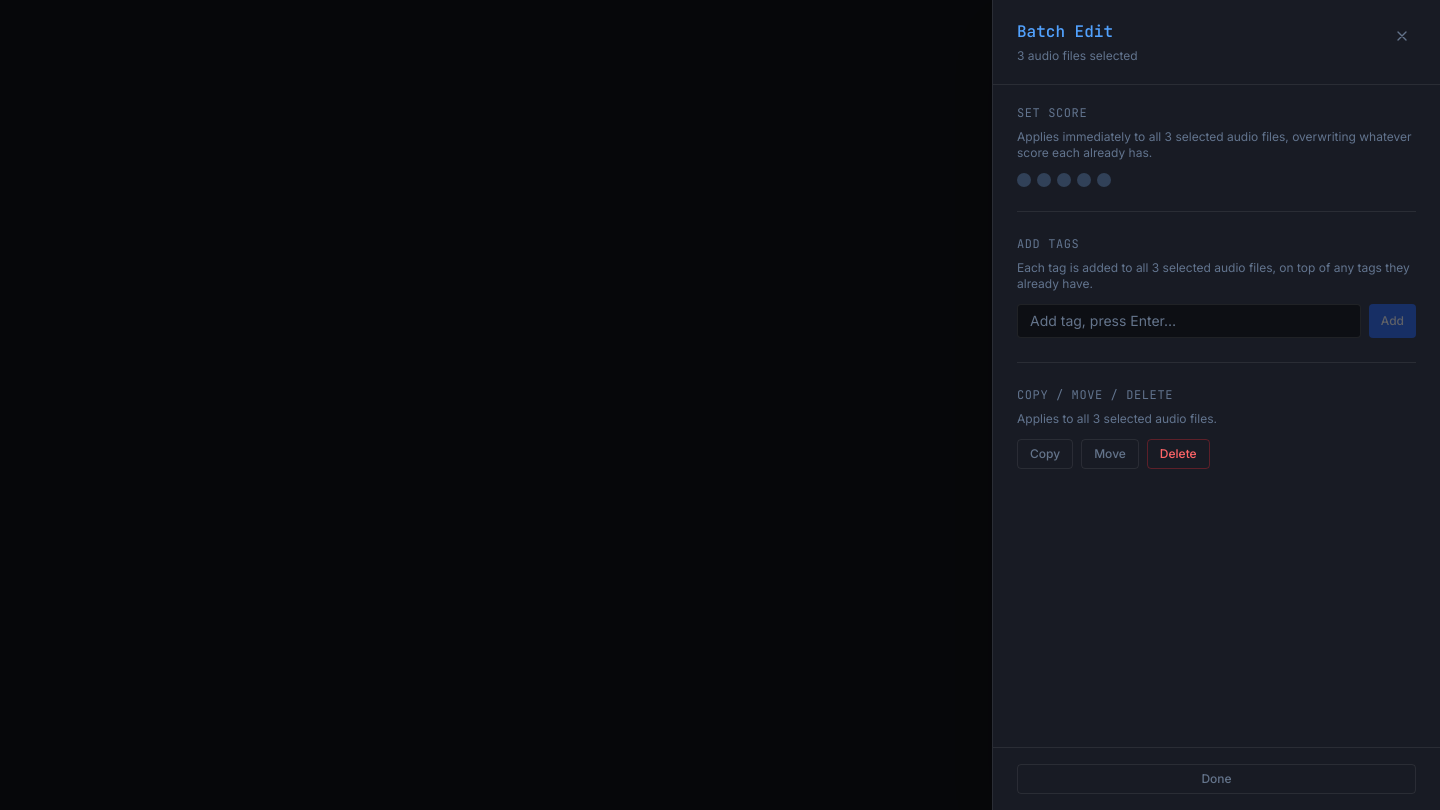
BatchEditPanel - handleScoreChange › clears a stale score error once a subsequent save succeeds
Click the radio button named "4 of 5": (1084, 180) [1077,173,1091,187]
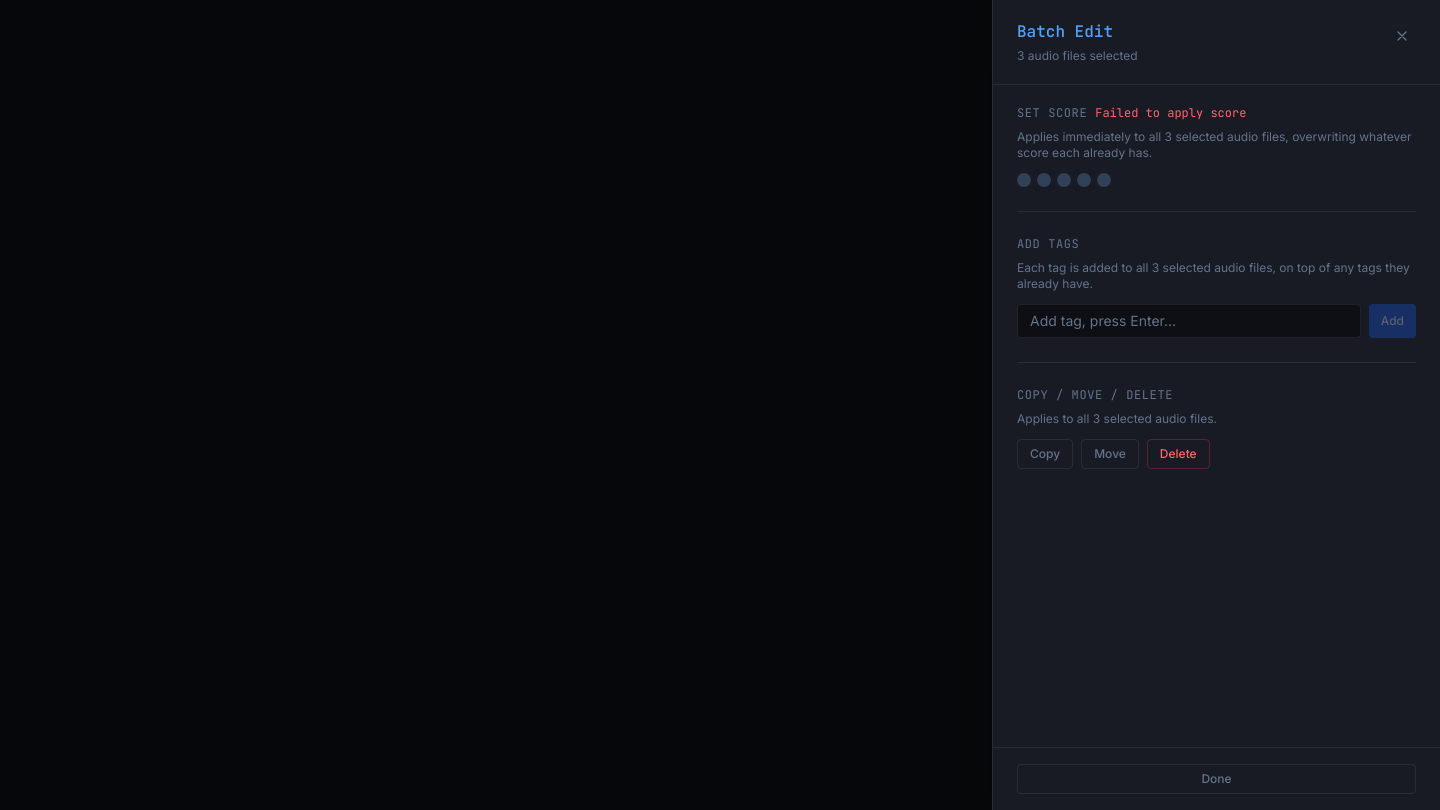
Result: the text "Failed to apply score" is shown at [1095,105,1246,121]
Click the radio button named "3 of 5": (1064, 180) [1057,173,1071,187]
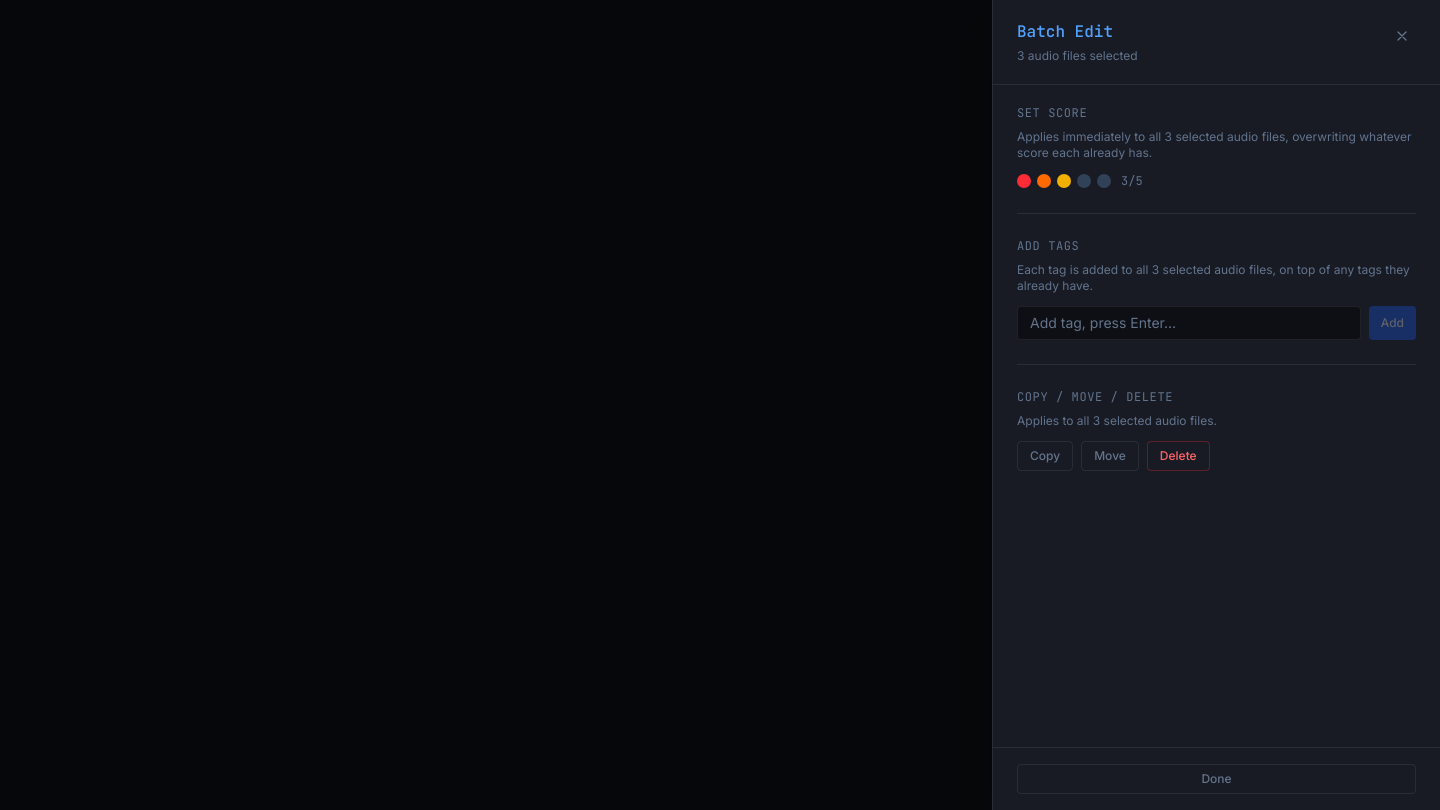
Result: the text "3/5" is shown at [1121,173,1143,189]
Result: the text "Failed to apply score" is gone
